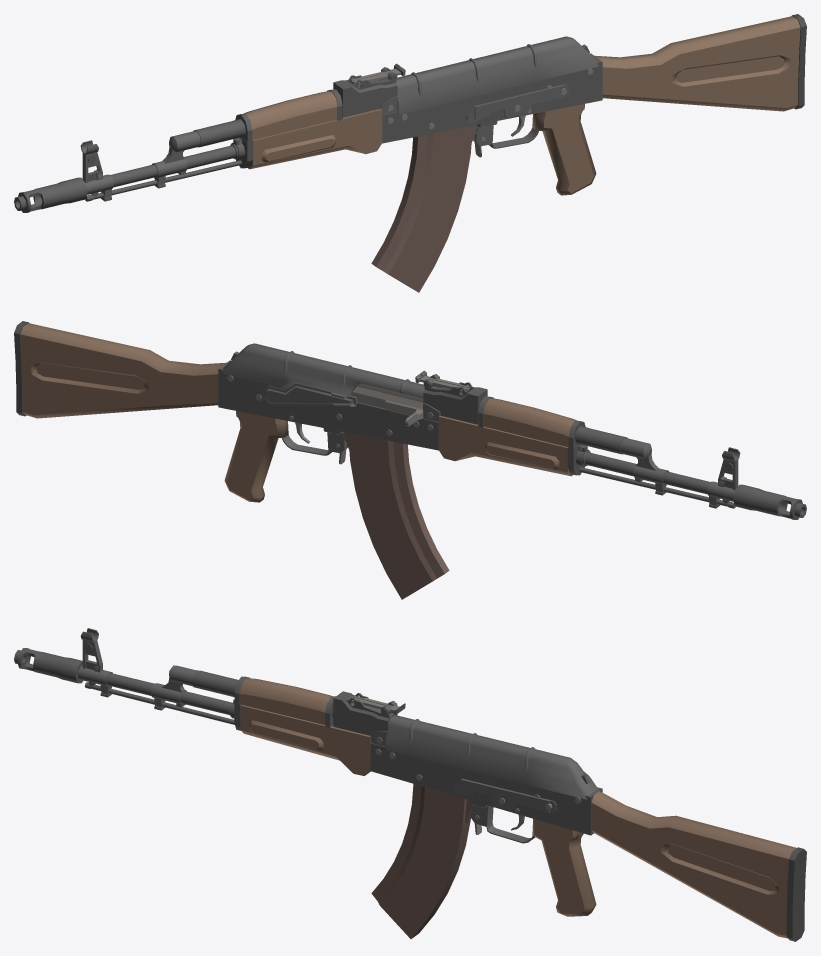
The picture shows the model from 3 angles, top to bottom: view 1: azimuth 30°, elevation 25°; view 2: azimuth 150°, elevation 25°; view 3: azimuth 330°, elevation 25°; orthographic projection.
Parts seen in each view (by area): view 1: Body, Mag; view 2: Body, Mag, Bolt; view 3: Body, Mag.
Part boxes in pixels (x1=…): Body: x1=14, y1=14, x2=806, y2=212; Mag: x1=371, y1=125, x2=475, y2=292; Body: x1=14, y1=321, x2=806, y2=519; Mag: x1=345, y1=432, x2=449, y2=599; Bolt: x1=351, y1=383, x2=423, y2=426; Body: x1=14, y1=628, x2=806, y2=941; Mag: x1=371, y1=784, x2=471, y2=938.
Size of the model in its own units: 0.9554 by 0.2641 by 0.058.
